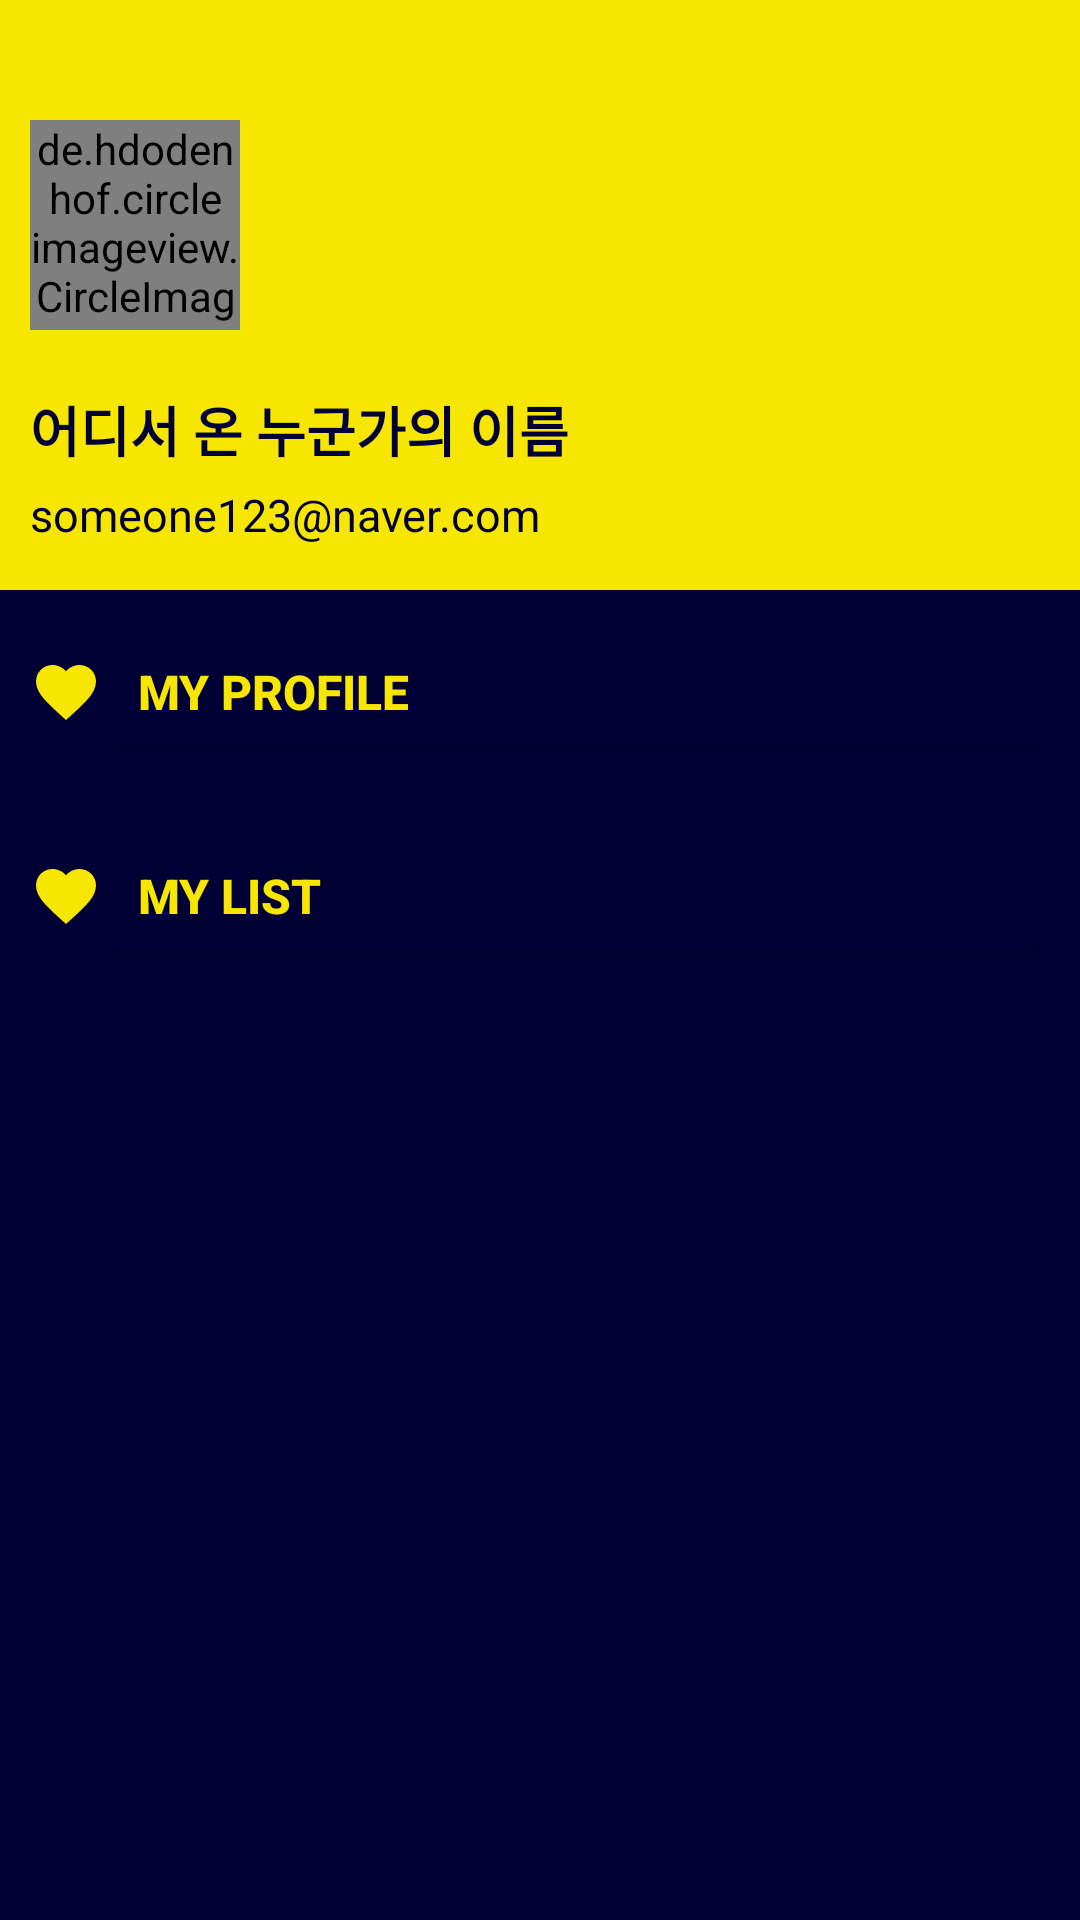

Icons on this 1080px×1920px Android screen, each with its box as (x1, y1, x2, y2):
favorite: (36, 665, 96, 720), (36, 869, 96, 924)
